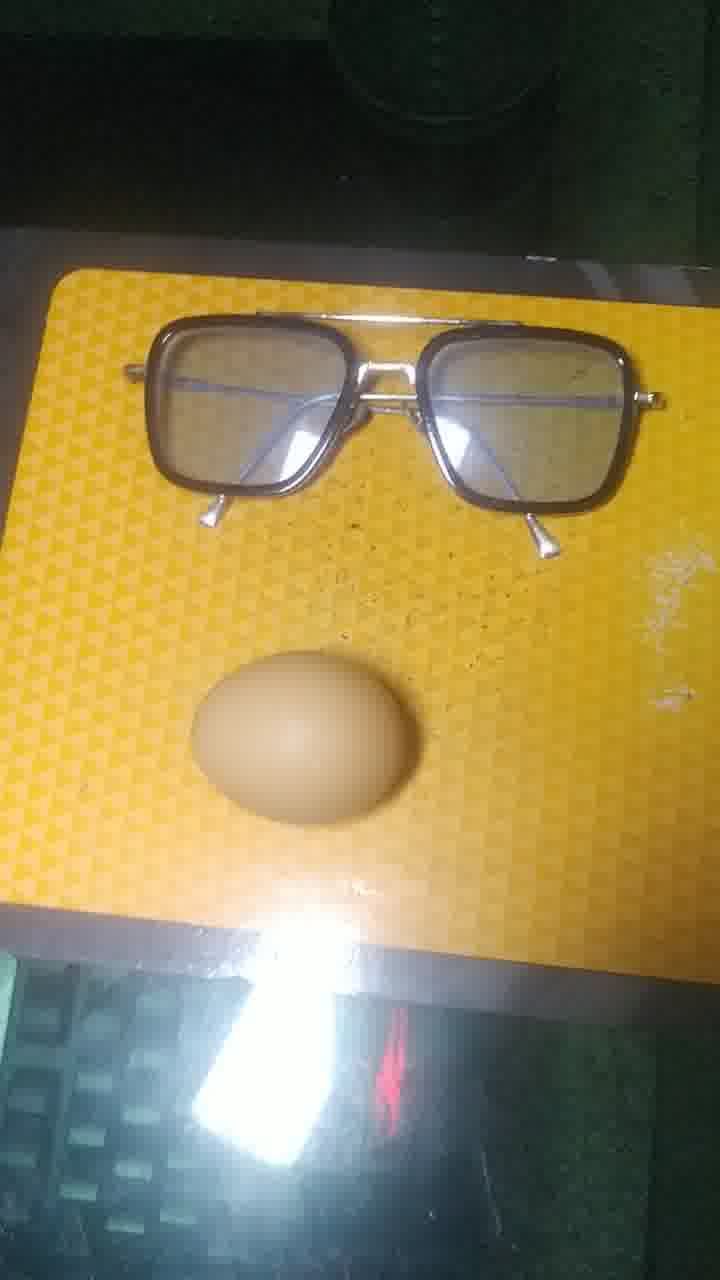egg: (188, 650, 423, 830)
sunglass: (131, 307, 671, 556)
